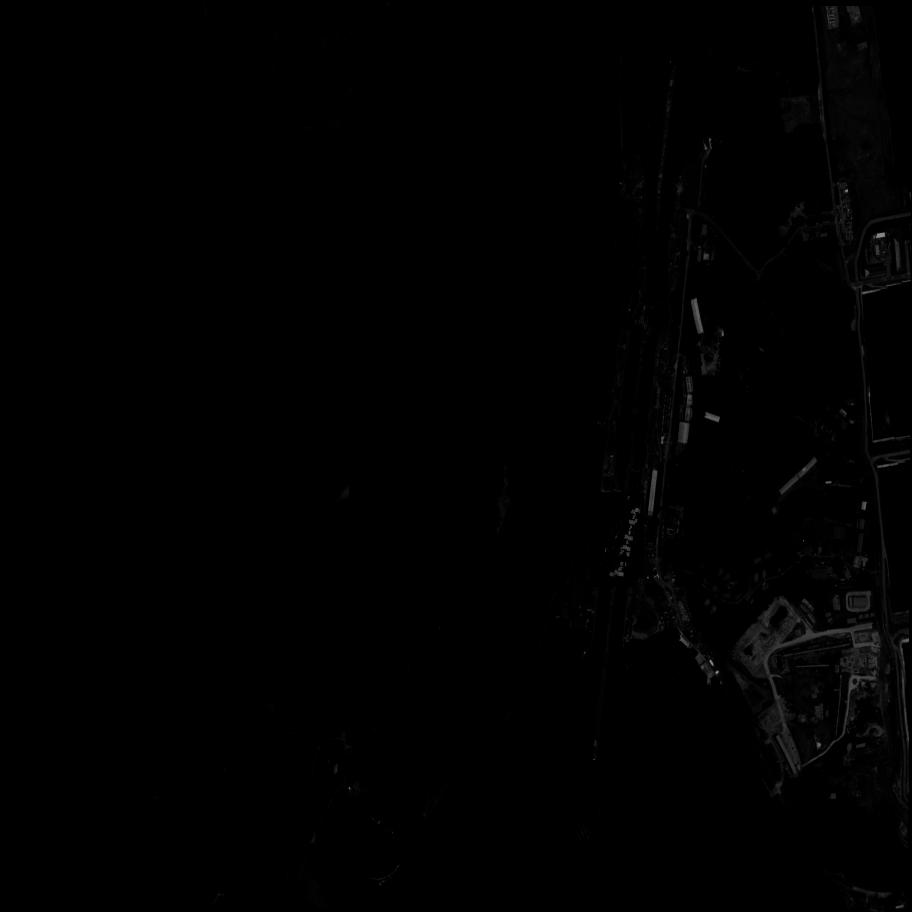ship: (590, 492, 637, 588), (613, 494, 645, 578), (625, 254, 657, 325), (648, 229, 670, 327), (680, 699, 688, 710), (707, 679, 713, 686)
